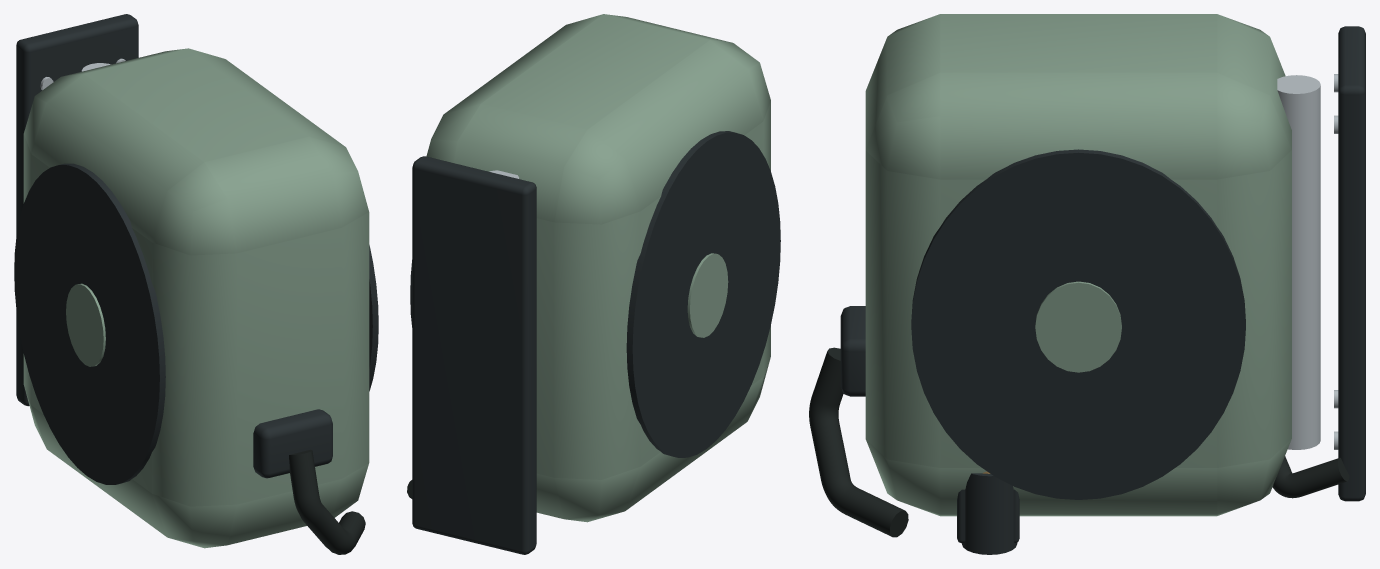
The model's file is wall-hose-reel.glb.
3 renders of one model, left to right at view 1: azimuth 30°, elevation 25°; view 2: azimuth 150°, elevation 25°; view 3: azimuth 270°, elevation 25°, orthographic. The views are drawn at different scales.
Parts seen in each view (by area): view 1: catalog_surface_RealismUV, catalog_surface_UVMap; view 2: catalog_surface_UVMap, catalog_surface_RealismUV; view 3: catalog_surface_RealismUV, catalog_surface_UVMap.
Boxes of the visible parts, box(x1,y1,x2,y2) form: catalog_surface_RealismUV: box(23, 48, 369, 554); catalog_surface_UVMap: box(14, 14, 378, 484); catalog_surface_UVMap: box(410, 131, 780, 554); catalog_surface_RealismUV: box(407, 14, 770, 522); catalog_surface_RealismUV: box(809, 14, 1349, 537); catalog_surface_UVMap: box(840, 26, 1365, 554).
Bounding box in the file's own units: 0.25 × 0.42 × 0.47.
